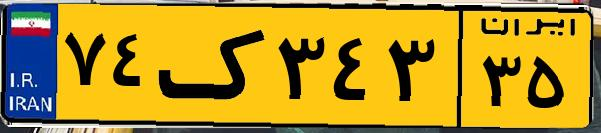3: (270, 28, 330, 110), (385, 28, 445, 110), (475, 38, 525, 113)
4: (330, 28, 385, 110), (110, 28, 158, 98)
5: (525, 38, 570, 115)
7: (57, 26, 110, 100)
ک: (158, 12, 270, 120)
